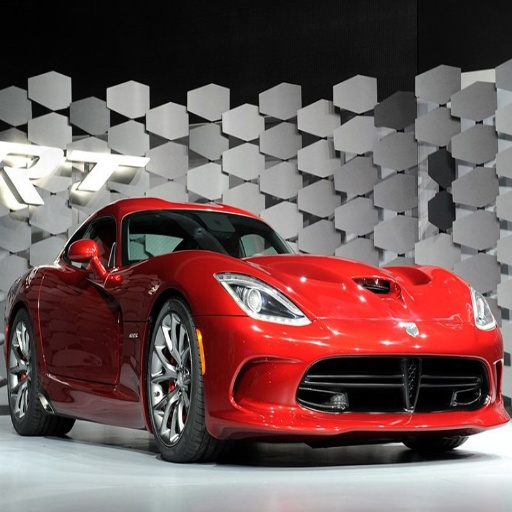front_right_door: (83, 282, 122, 384)
front_right_light: (214, 270, 304, 325)
trunk: (308, 269, 378, 343)
